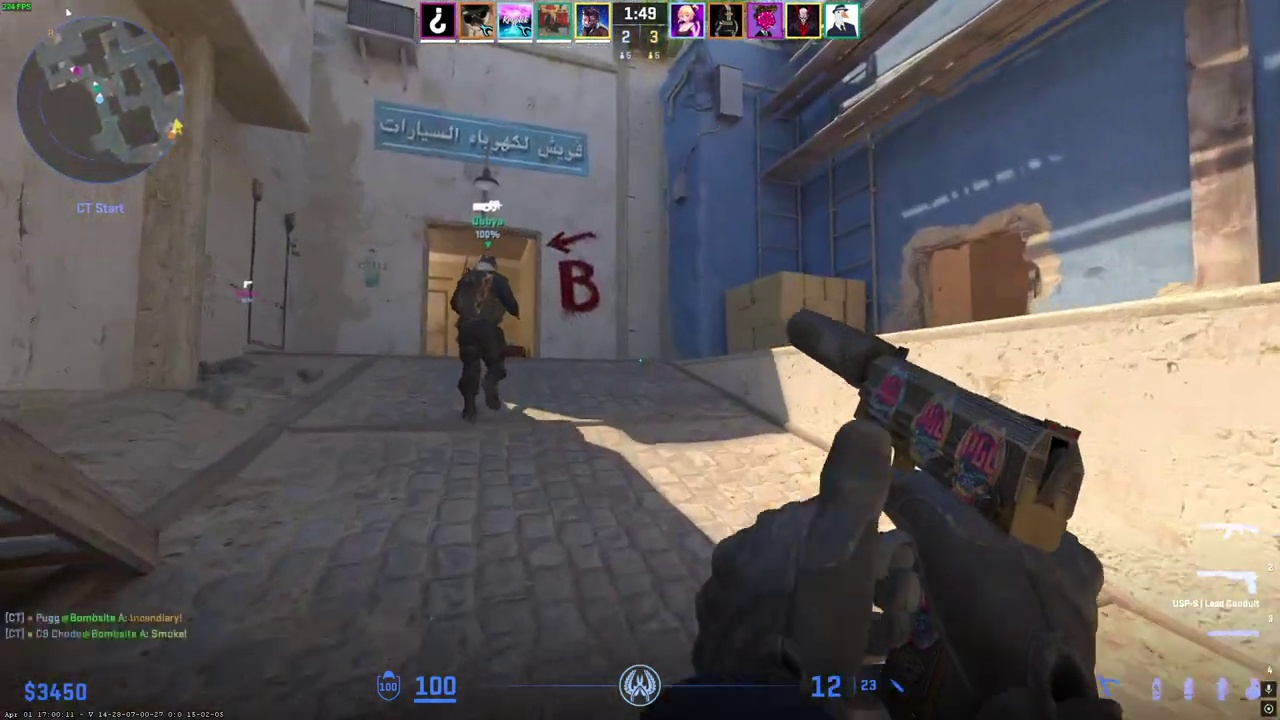CT: (453, 254, 515, 423)
